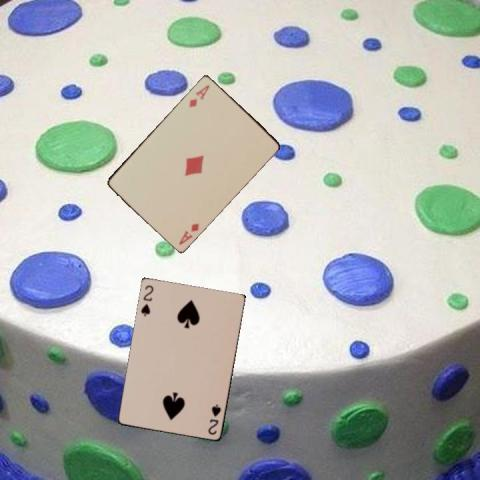2s: (205, 401, 223, 437), (138, 282, 155, 317)
Ad: (186, 81, 211, 109), (175, 220, 201, 246)
